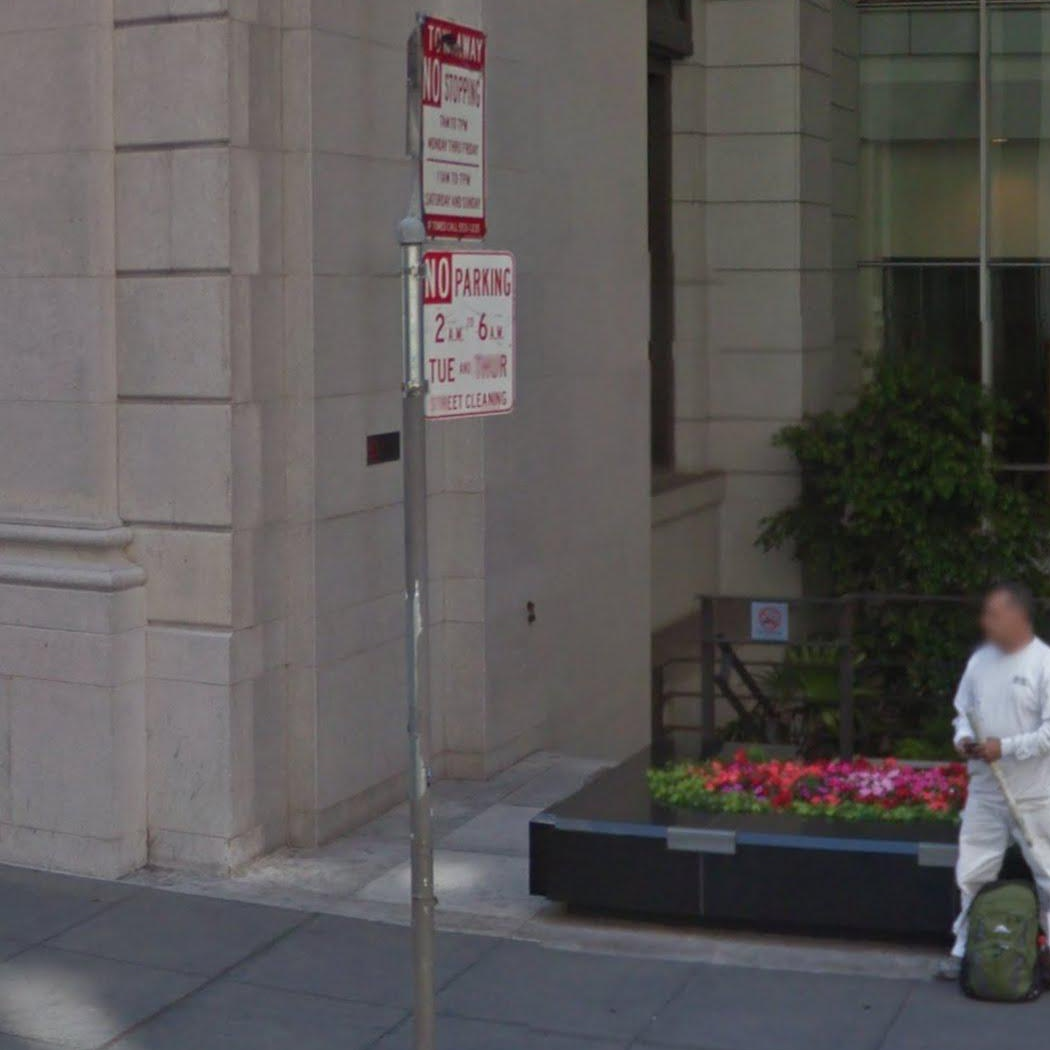No Parking: (419, 250, 520, 425)
